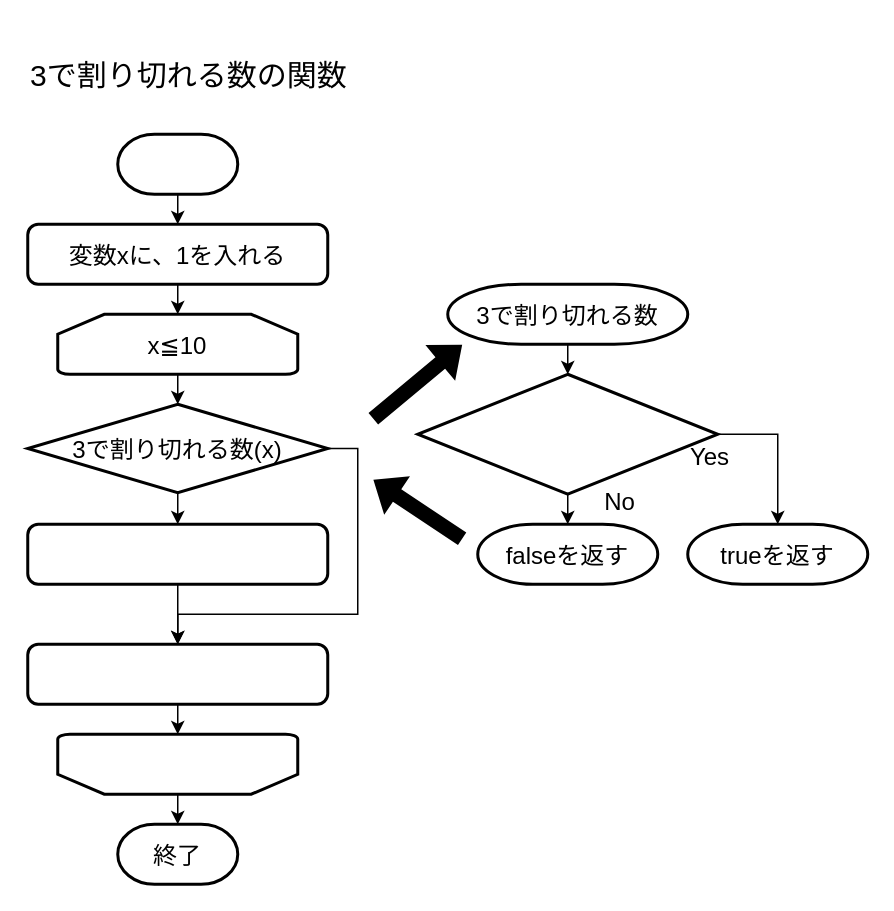
The diagram is 894 pixels wide and 911 high, and some of its shapes have lost their labels. The shapes that lost their labels are listed below. From the top down, each one's box as (x1, y1, x2, y2) in pixels, then its label:
(116, 132, 238, 195): 開始
(416, 372, 718, 495): inputを3で 割った余りが0
(26, 522, 328, 585): xを表示する
(26, 642, 328, 705): 変数xを、1だけ増やす
